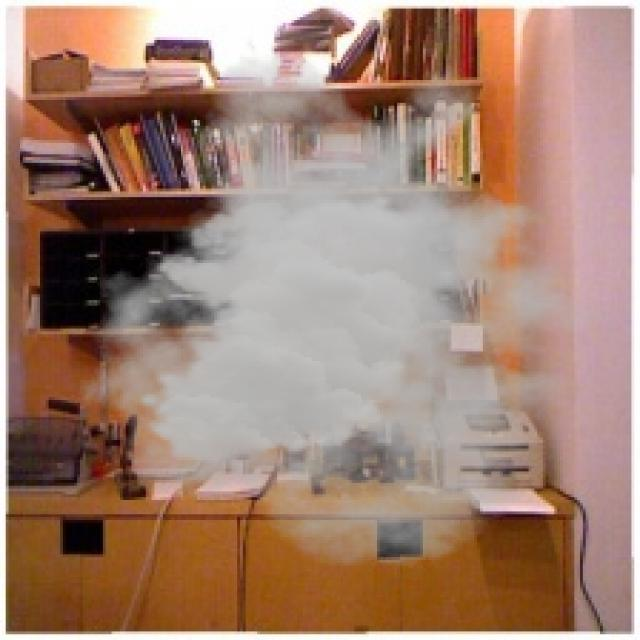smoke: (77, 49, 629, 568)
